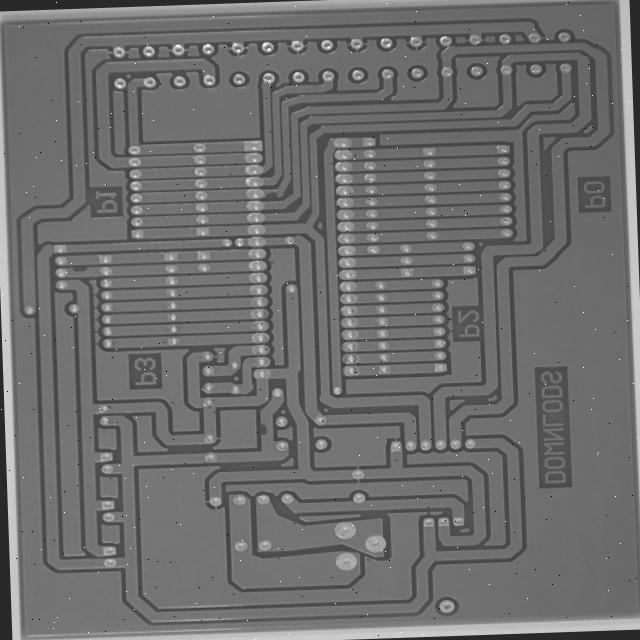mouse_bite: (252, 418, 271, 439), (260, 187, 281, 201), (66, 263, 88, 276)
